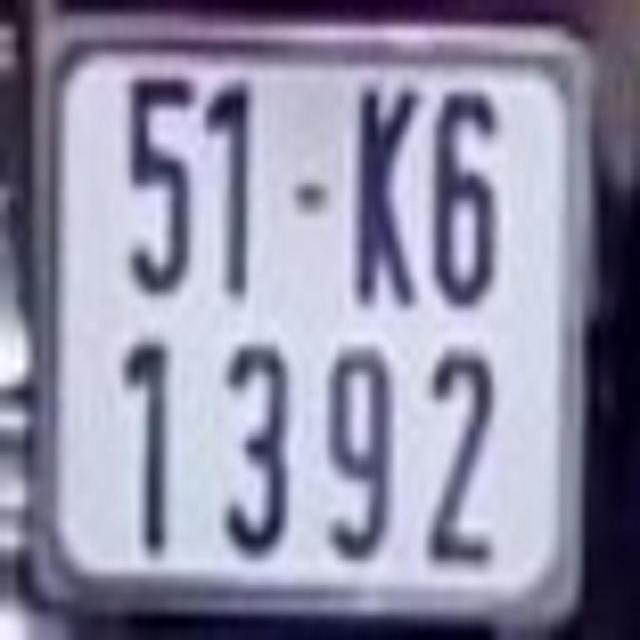1: (120, 342, 172, 558), (202, 76, 250, 303)
2: (424, 343, 501, 564)
3: (222, 340, 287, 558)
5: (126, 75, 194, 296)
6: (431, 88, 497, 309)
9: (325, 342, 390, 568)
K: (353, 82, 423, 311)
